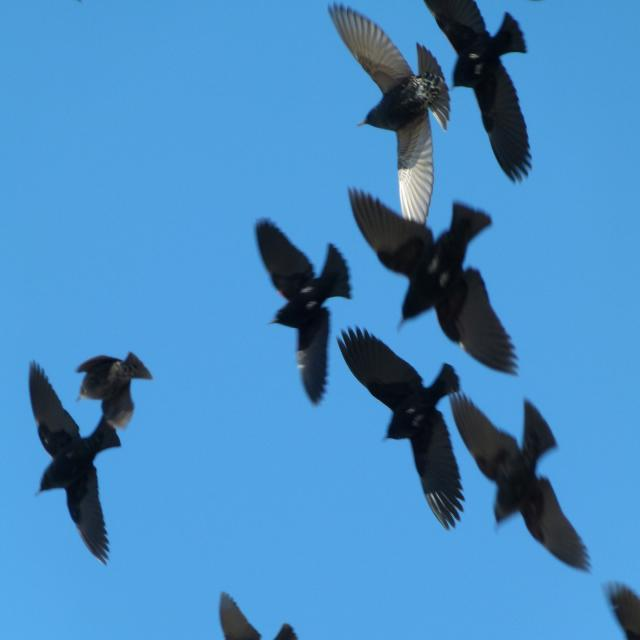bird: (326, 327, 500, 536), (324, 5, 462, 216), (442, 396, 596, 575), (339, 192, 505, 348), (27, 356, 146, 568), (400, 1, 535, 180), (257, 213, 350, 417), (214, 592, 314, 640)
